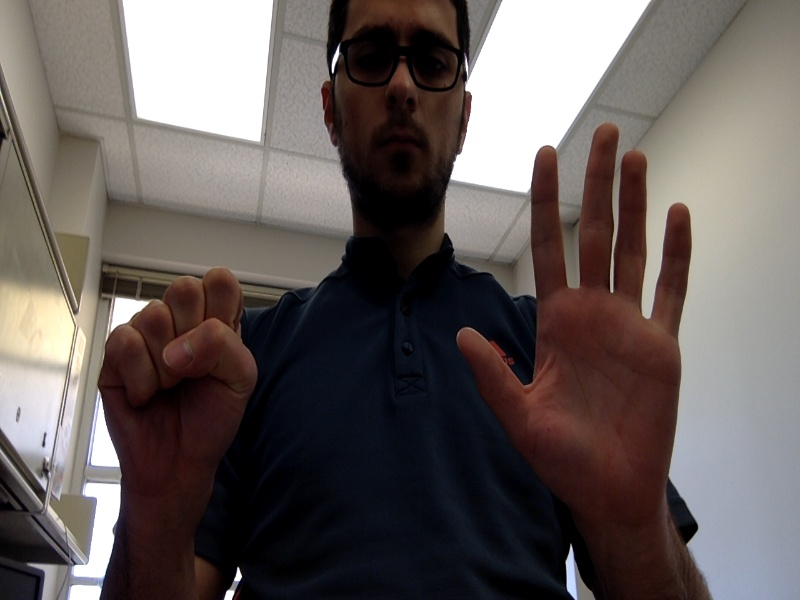0-hand: (98, 269, 259, 476)
5-hand: (455, 124, 692, 512)
